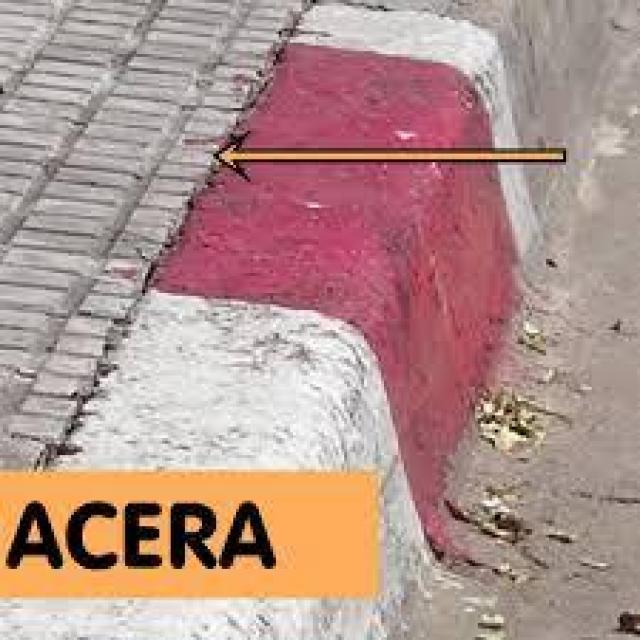curb: (56, 243, 485, 640), (257, 1, 626, 316)
